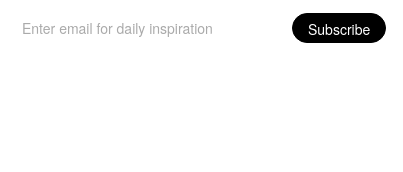
Test case: FooterForm › says "Subscribed. See you tomorrow" in green, then empties the form
Later steps or results of the test are not shown.
Type "new@example.com" into the field with placeholder "Enter email for daily inspiration" at point(147, 28), box [12, 12, 282, 42]
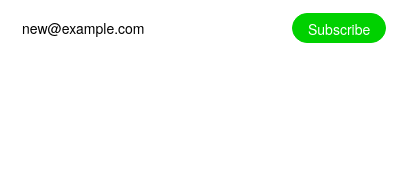
Click the button "Subscribe" at point(339, 28), box [292, 13, 386, 43]
Wait 1666 ms
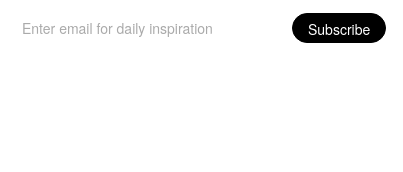
Result: the field with placeholder "Enter email for daily inspiration" is empty at [12, 12, 282, 42]
Result: the button "Subscribe" is disabled at [292, 13, 386, 43]
